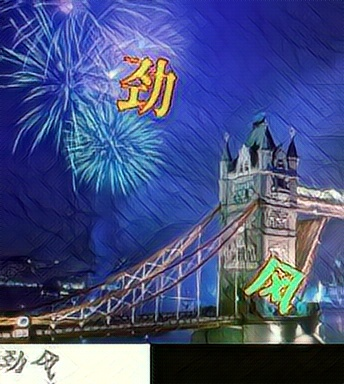B7E7: (244, 254, 304, 318)
BEA2: (114, 50, 174, 114)
